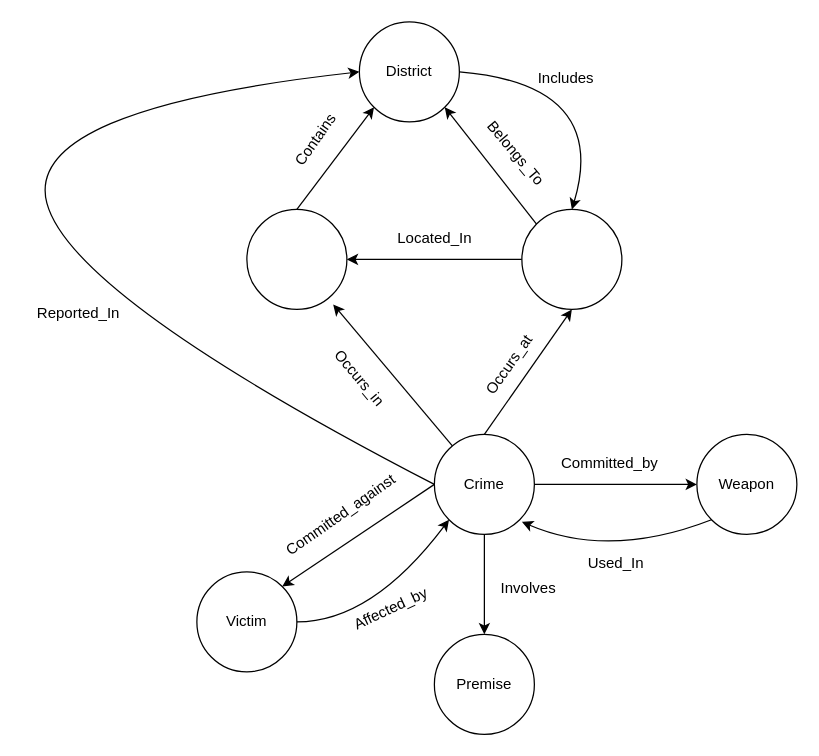
Image size: 819x756. Some labels were removed from this diagram. The shapes that lost their labels are listed below. From the top down, each one's centre as x and y in pixels, then its label:
point 296,258: Area
point 571,258: Location
